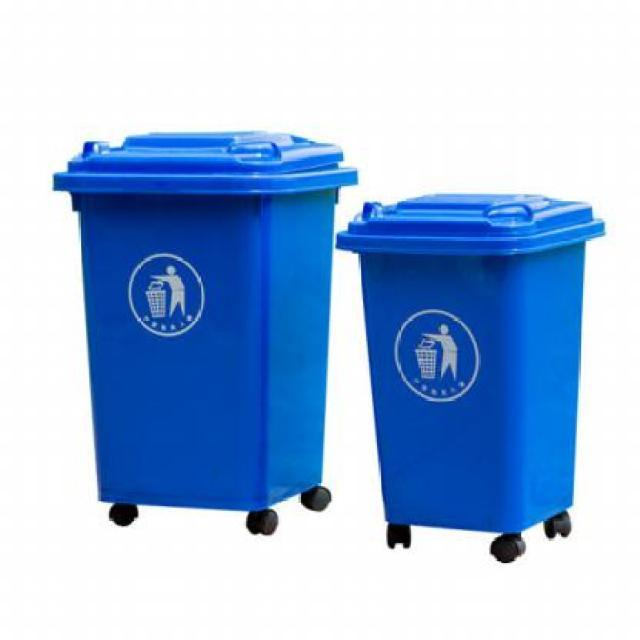garbage container: (42, 115, 362, 558), (332, 189, 618, 585)
